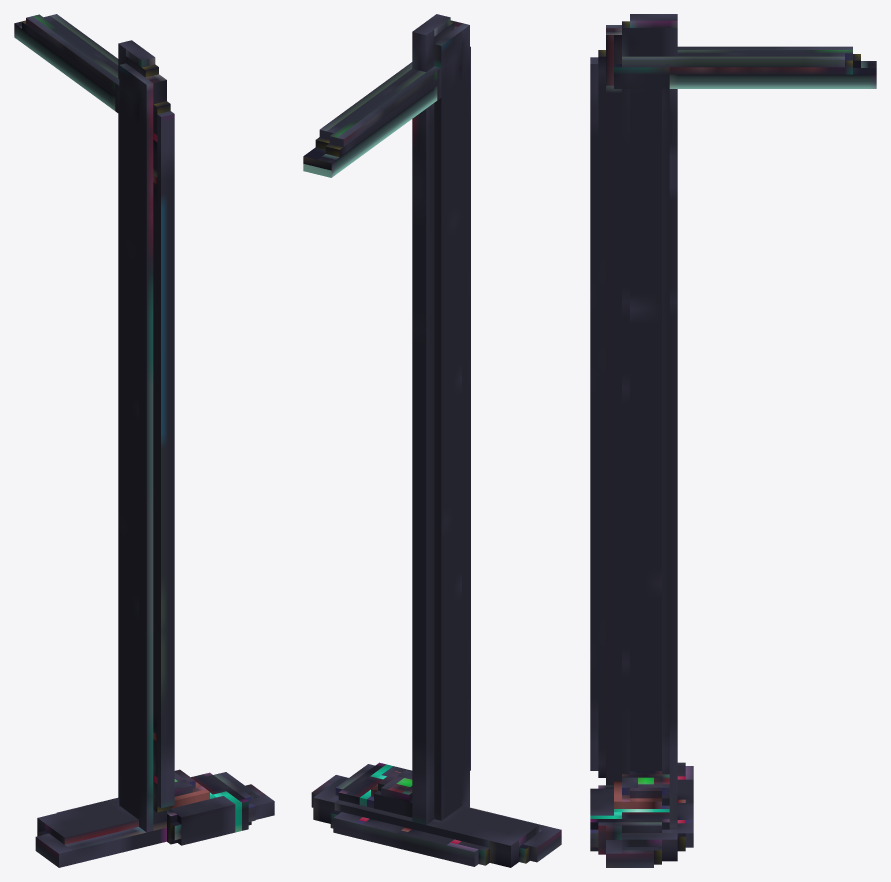
File: LightPole_C_00.fbx
3 renders of one model, left to right at view 1: azimuth 30°, elevation 25°; view 2: azimuth 150°, elevation 25°; view 3: azimuth 270°, elevation 25°, orthographic. The views are drawn at different scales.
Parts seen in each view (by area): view 1: LightPole_C_00; view 2: LightPole_C_00; view 3: LightPole_C_00.
Part boxes in pixels (x1=…): LightPole_C_00: x1=14, y1=14, x2=274, y2=867; LightPole_C_00: x1=303, y1=14, x2=561, y2=867; LightPole_C_00: x1=590, y1=14, x2=876, y2=867.
Size of the model in its own units: 160 by 550 by 180.
